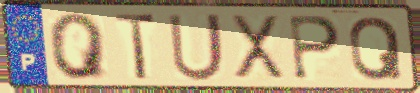P: (287, 14, 343, 83)
Q: (47, 11, 111, 82), (347, 14, 406, 83)
T: (113, 11, 158, 83)
U: (166, 11, 228, 84)
X: (228, 12, 288, 83)
